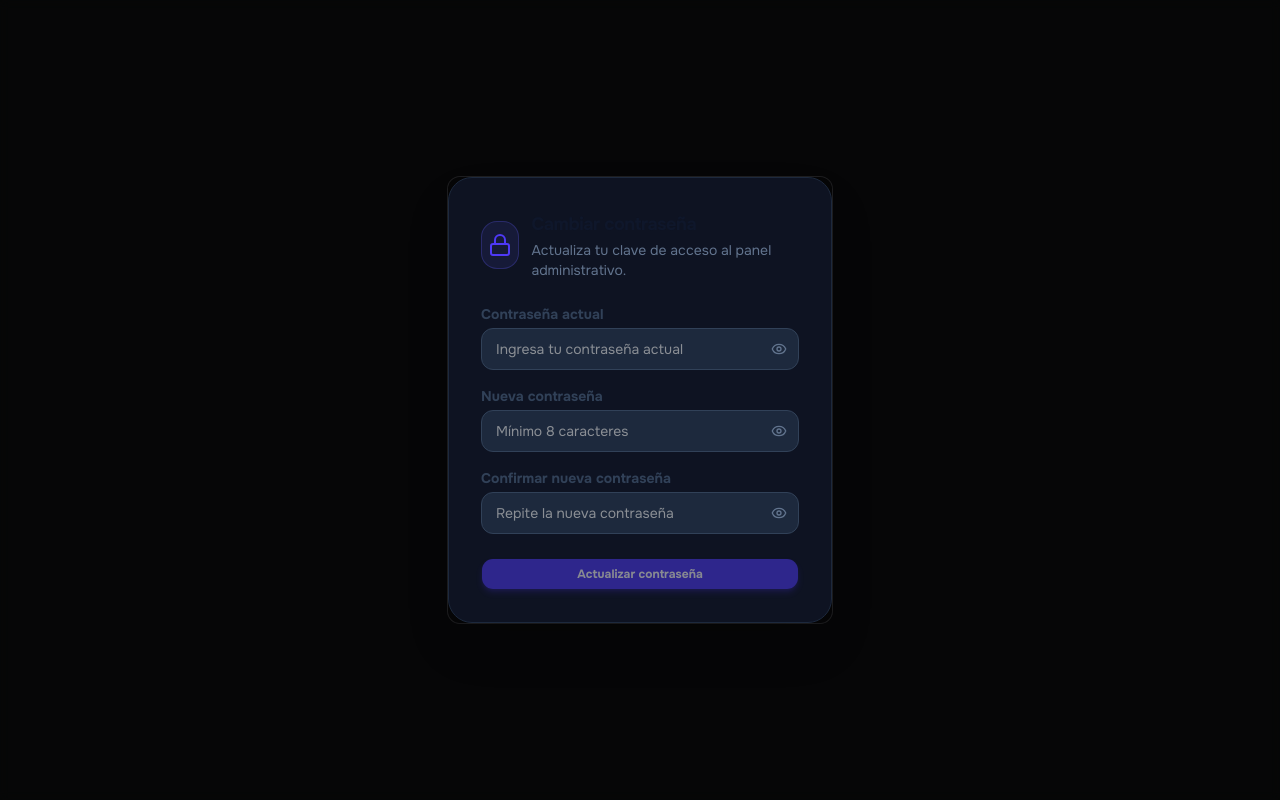
Scenario: ChangePasswordScreen (TDD) › shows inline validation error when new password is the same as current password
Type "samepassword123" into the password field labelled "Contraseña actual".
click(640, 349); type("samepassword123")  # box [481,328,799,370]
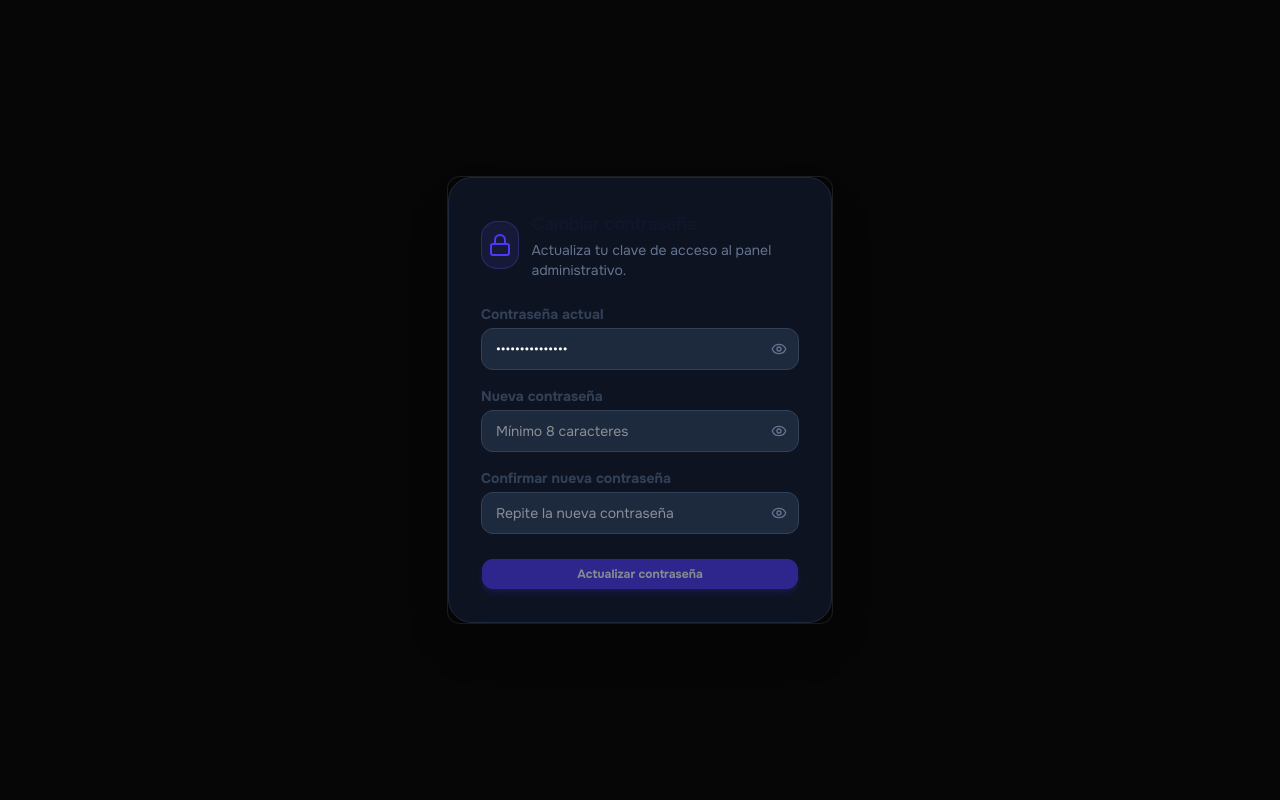
Type "samepassword123" into the password field labelled "Nueva contraseña".
click(640, 431); type("samepassword123")  # box [481,410,799,452]
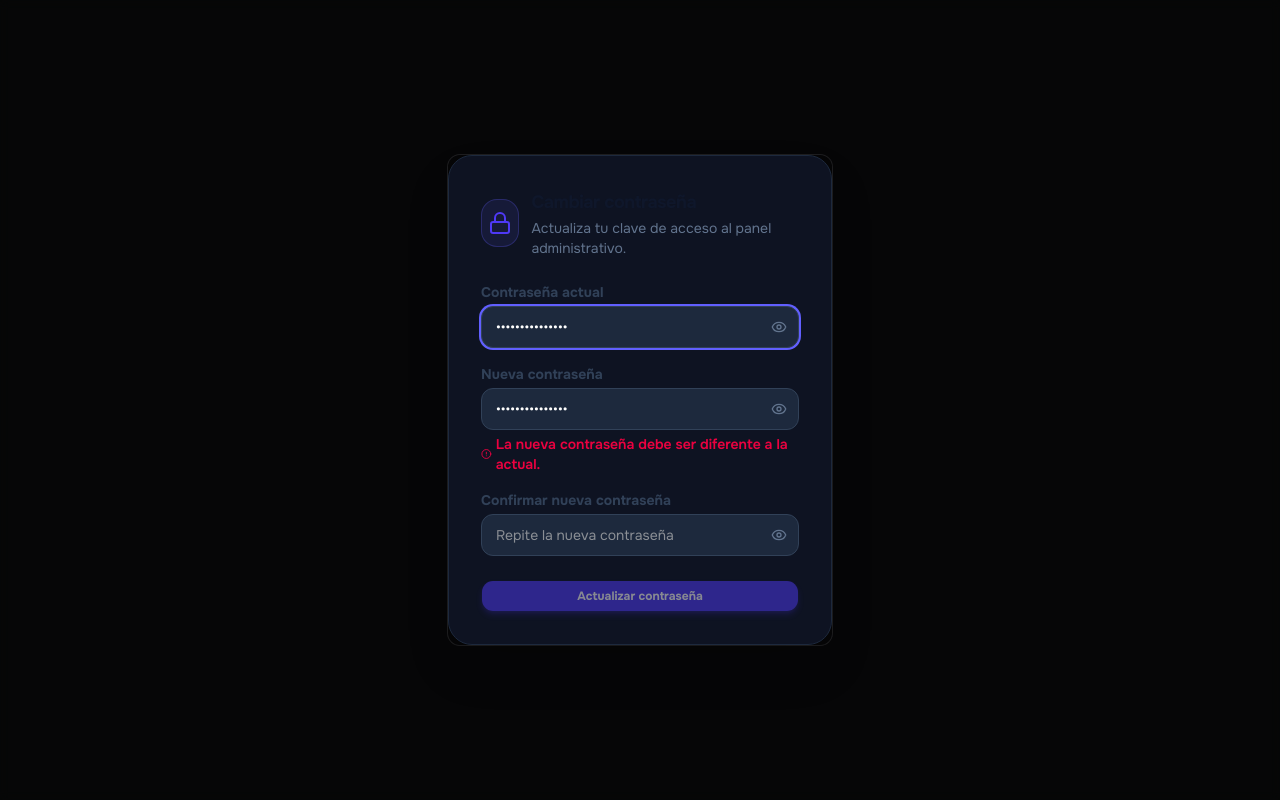
Now the text "La nueva contraseña debe ser diferente a la actual." is shown, box [496,434,799,474]
